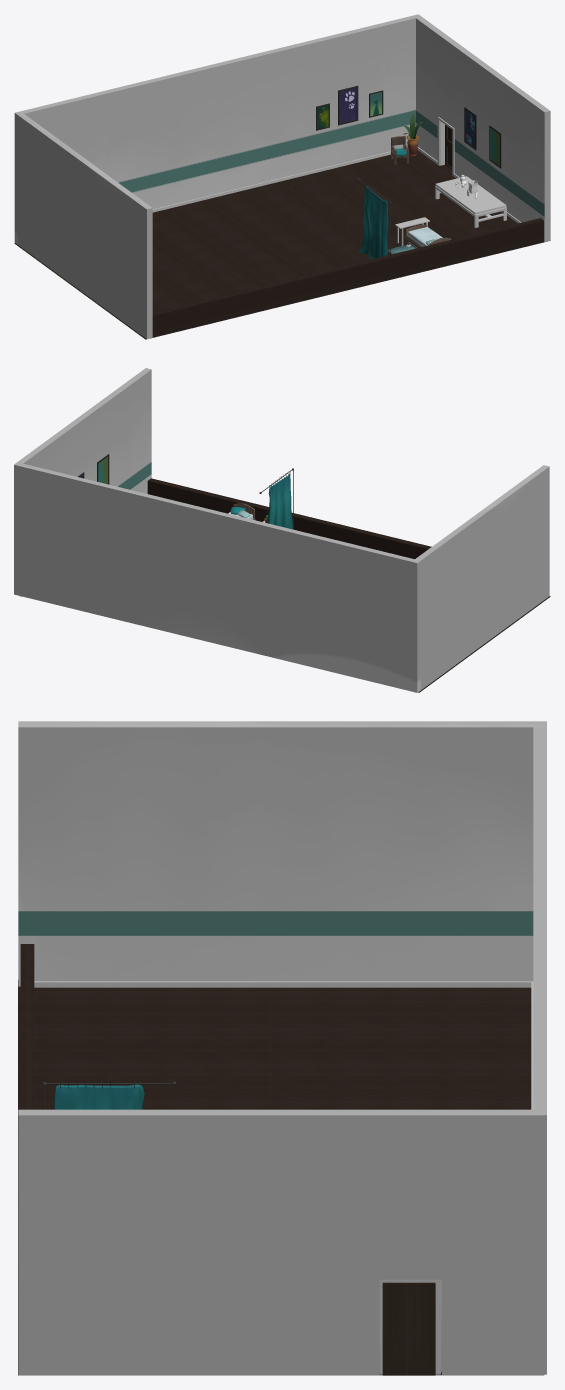
The model's file is Scene_props.FBX.
3 views of the same model, one above another, from view 1: azimuth 30°, elevation 25°; view 2: azimuth 150°, elevation 25°; view 3: azimuth 270°, elevation 25° (orthographic). The views are drawn at different scales.
Parts seen in each view (by area): view 1: Room, Rideaux, Desk, Moulures, Cadre001, Bed, Cadre004, Cadre005, Vase; view 2: Room, Rideaux; view 3: Room, Moulures, Door, Rideaux.
Part boxes in pixels (box(x1,y1,x2,y2)): Room: box(14, 14, 550, 339); Rideaux: box(357, 178, 391, 259); Desk: box(435, 176, 506, 227); Moulures: box(152, 117, 521, 223); Cadre001: box(338, 85, 358, 125); Bed: box(405, 224, 451, 248); Cadre004: box(489, 125, 501, 168); Cadre005: box(464, 107, 476, 150); Vase: box(403, 114, 422, 156); Room: box(14, 368, 550, 692); Rideaux: box(259, 468, 293, 529); Room: box(18, 721, 546, 1375); Moulures: box(34, 981, 533, 1374); Door: box(382, 1282, 435, 1375); Rideaux: box(42, 1081, 176, 1109).
Bounding box in the file's own units: 1204 × 374 × 680.
